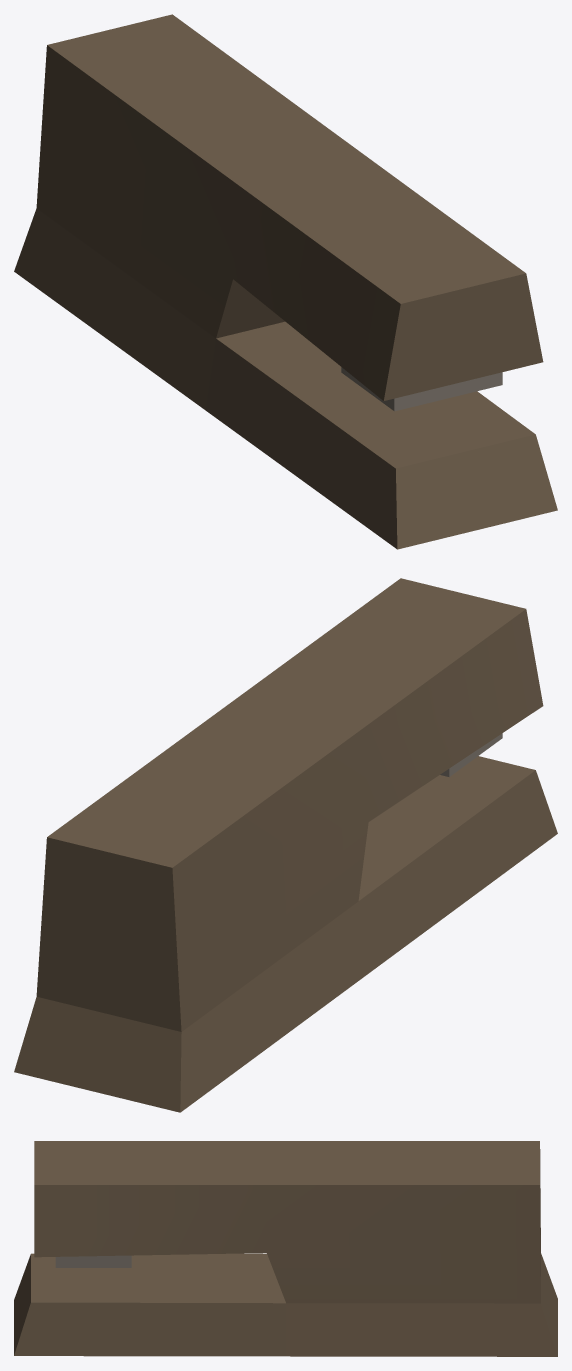
File: Stapler.fbx
The picture shows the model from 3 angles, top to bottom: view 1: azimuth 30°, elevation 25°; view 2: azimuth 150°, elevation 25°; view 3: azimuth 270°, elevation 25°; orthographic projection. The views are drawn at different scales.
Parts seen in each view (by area): view 1: pCube44; view 2: pCube44; view 3: pCube44.
Part boxes in pixels (left/top/right/bottom): pCube44: left=14, top=14, right=557, bottom=549; pCube44: left=14, top=578, right=557, bottom=1112; pCube44: left=14, top=1141, right=557, bottom=1356.
Bounding box in the file's own units: 0.1855 × 0.246 × 0.7348.
